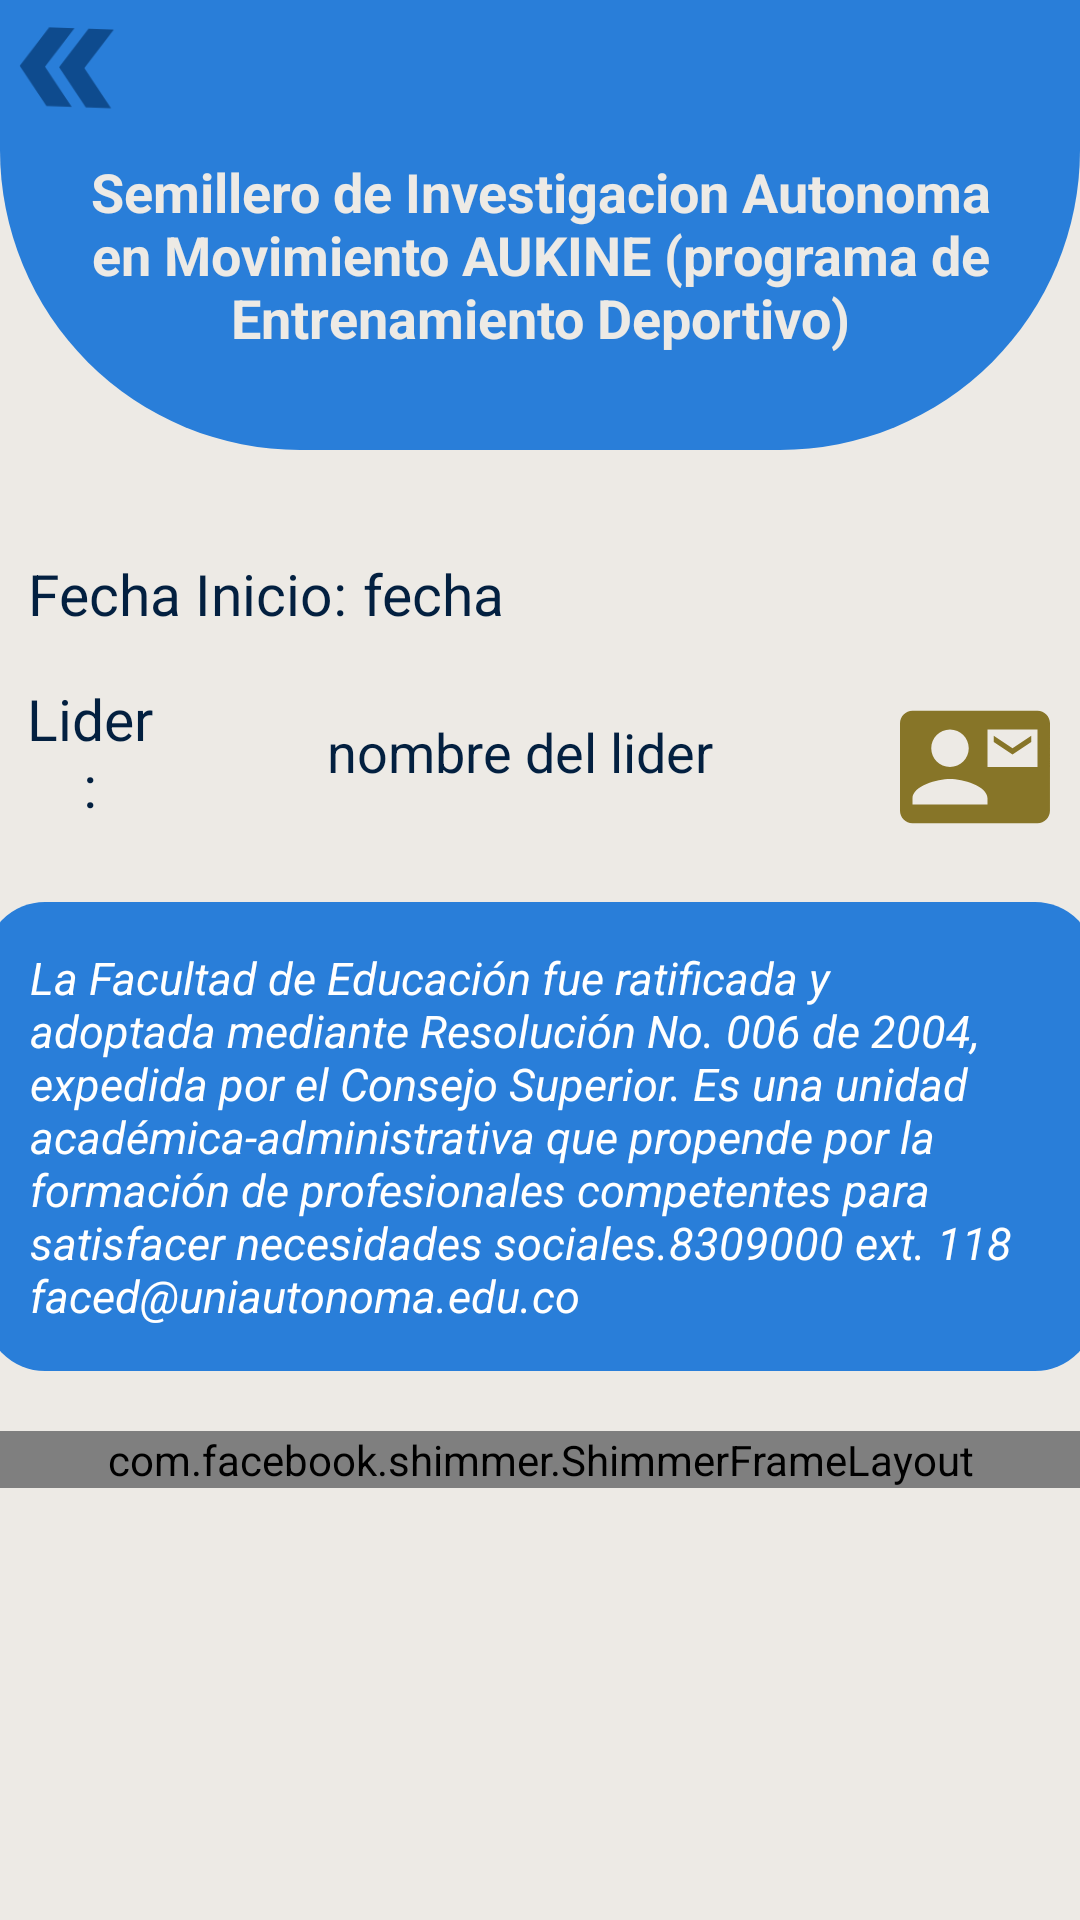

Point at icon controls on the screen. Image size 1080*1920, points as (x=x, y=y).
contacto lider: (x=975, y=767)
